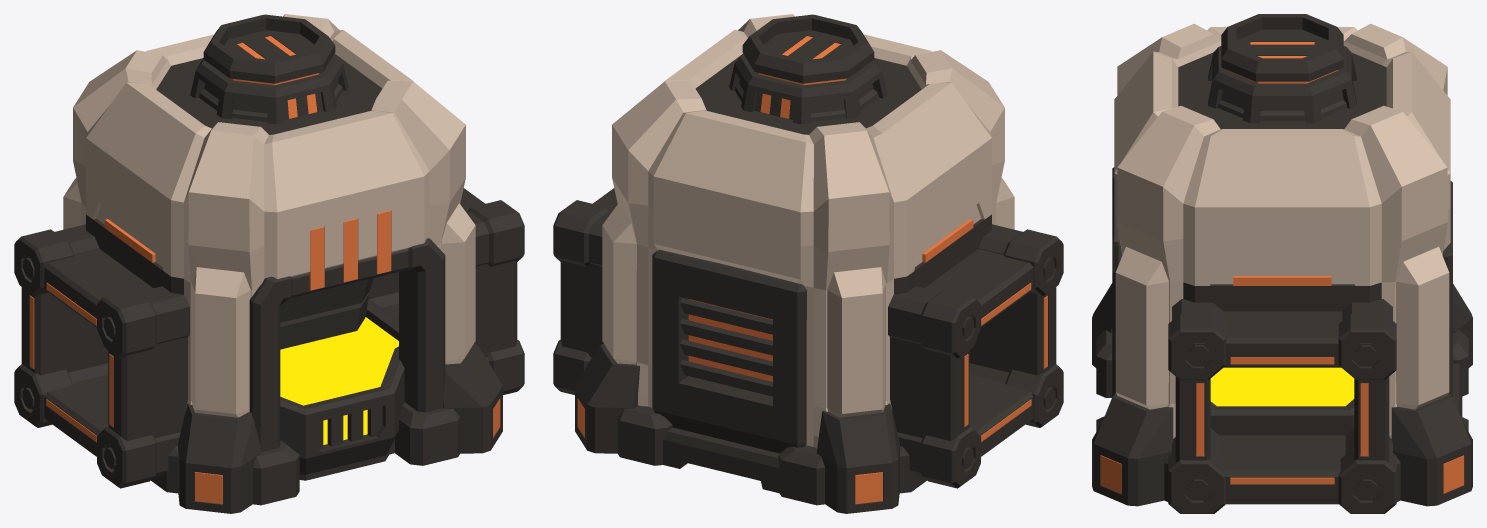
File: Smelter.fbx
The picture shows the model from 3 angles, left to right: view 1: azimuth 30°, elevation 25°; view 2: azimuth 150°, elevation 25°; view 3: azimuth 270°, elevation 25°; orthographic projection. The views are drawn at different scales.
Visible parts, largest first — view 1: Body, Port.001, Base, Head, Pot, Port, Molten, Light, Melter; view 2: Body, Base, Port.001, Head, Port, Light; view 3: Body, Port, Base, Head, Light, Molten, Pot.
Boxes of the visible parts, x1,y1,x2,y2 form: Body: [63, 14, 475, 417]; Port.001: [14, 214, 189, 488]; Base: [151, 238, 502, 513]; Head: [156, 14, 382, 134]; Pot: [280, 299, 404, 480]; Port: [368, 188, 524, 394]; Molten: [280, 317, 398, 444]; Light: [30, 36, 500, 504]; Melter: [280, 278, 373, 349]; Body: [602, 14, 1014, 448]; Base: [575, 249, 926, 513]; Port.001: [888, 214, 1063, 488]; Head: [695, 14, 921, 134]; Port: [553, 188, 617, 394]; Light: [577, 36, 1047, 504]; Body: [1114, 23, 1450, 438]; Port: [1168, 282, 1396, 513]; Base: [1092, 167, 1472, 506]; Head: [1178, 14, 1386, 129]; Light: [1100, 42, 1464, 493]; Molten: [1210, 367, 1354, 406]; Pot: [1210, 399, 1354, 435].
Bounding box in the file's own units: 1.01 × 0.903 × 0.8031.
Materials: 2 (1 with a texture image).
